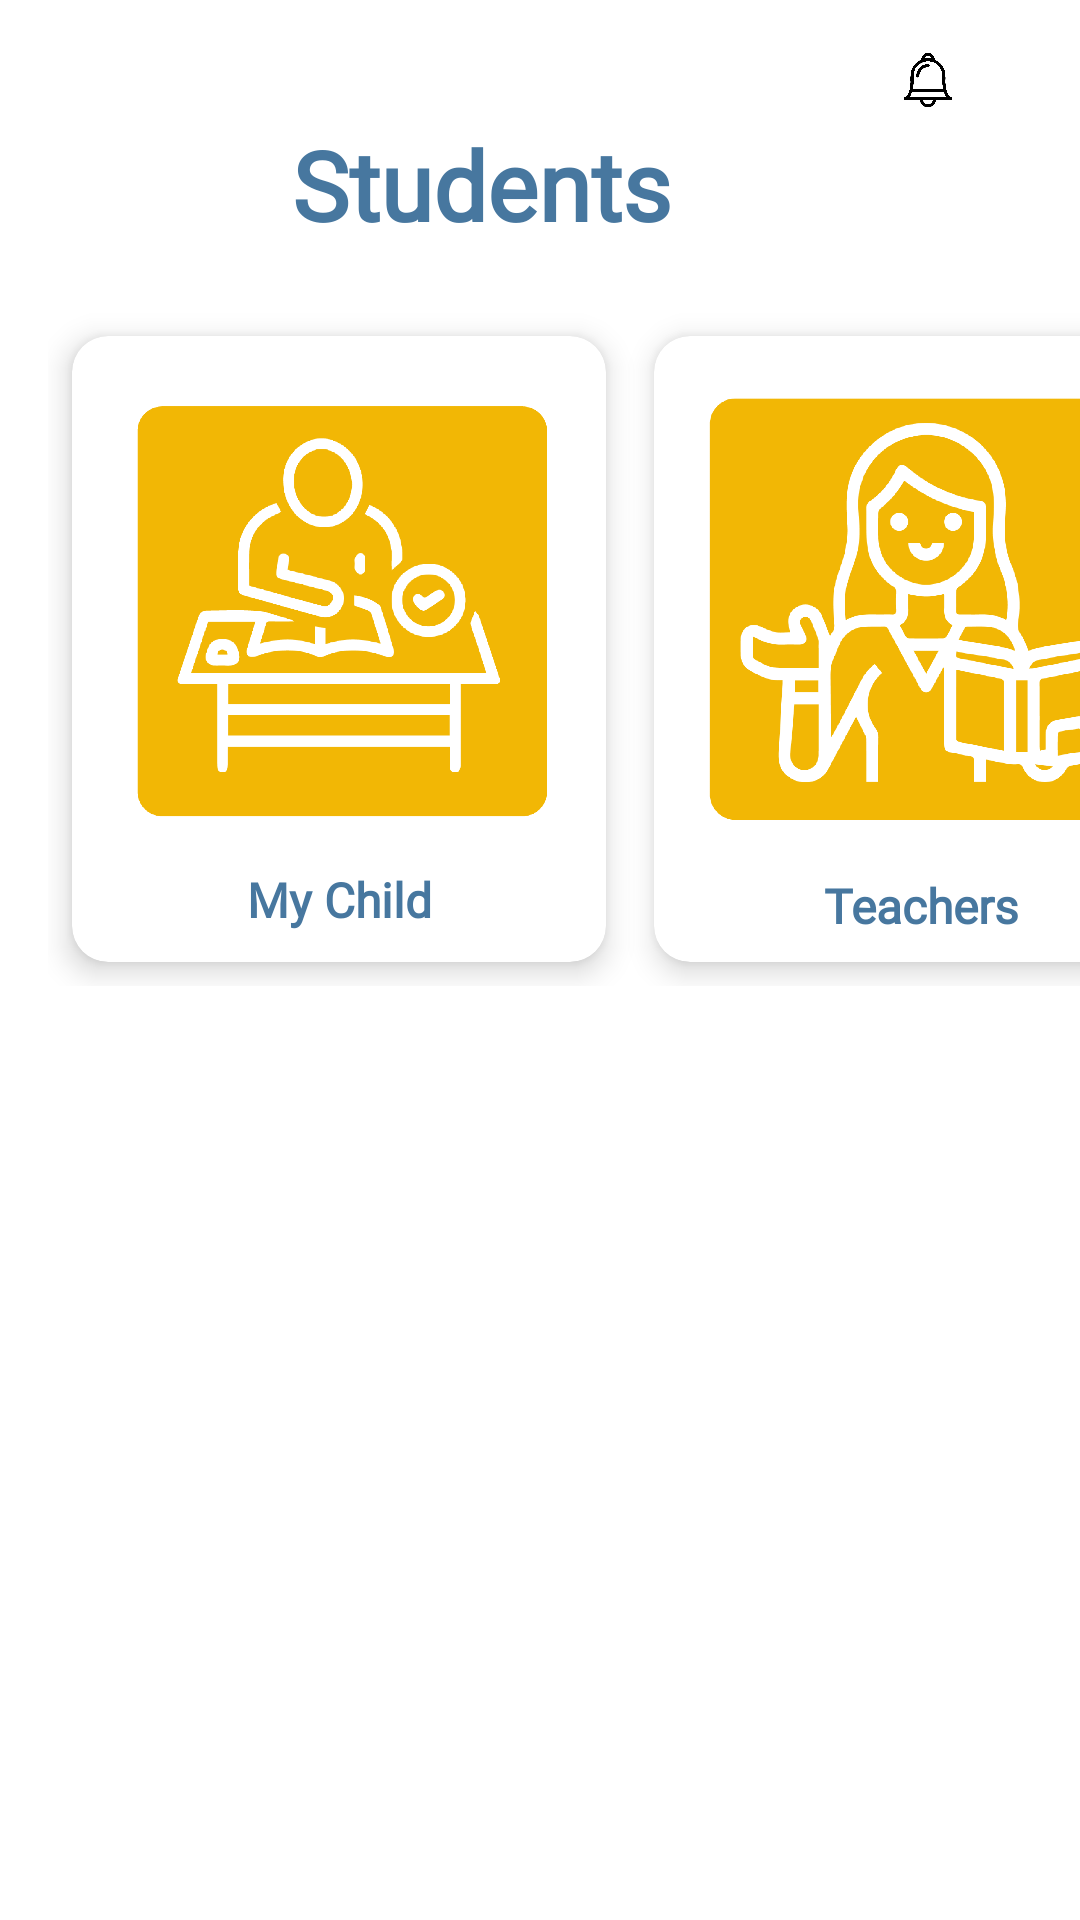

Icon bounding boxes for this 1080 × 1920 phone screenshot, format (x1, y1, x2, y2):
bellicon: (904, 53, 952, 107)
